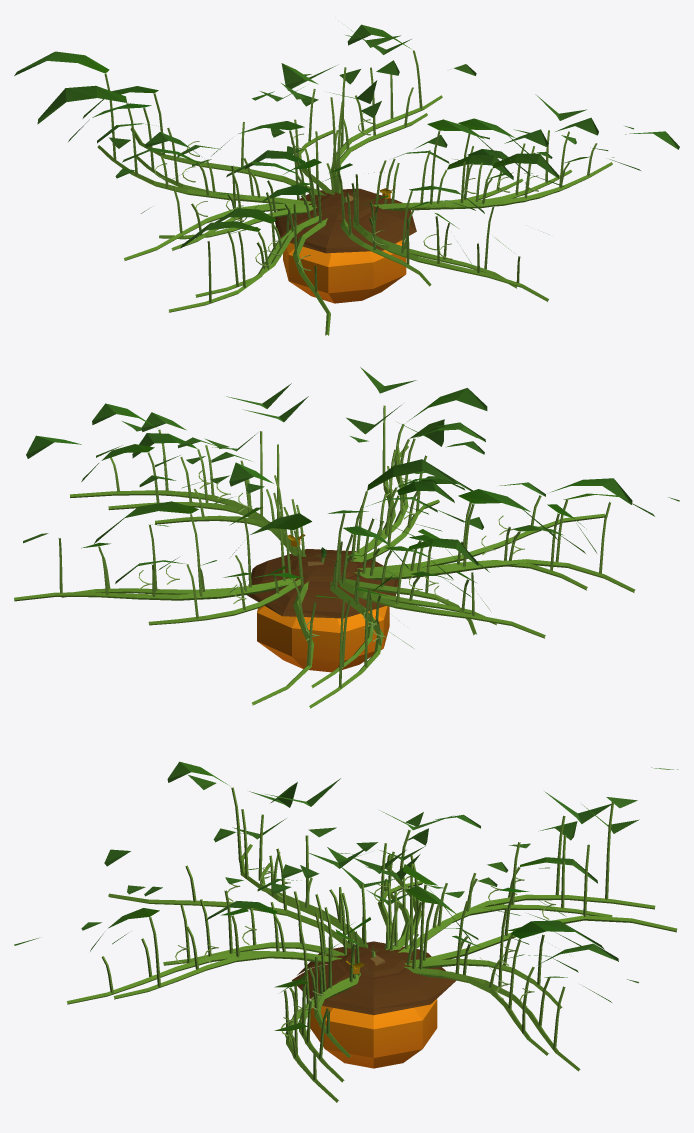
File: pumpkin.glb
3 views of the same model, one above another, from view 1: azimuth 30°, elevation 25°; view 2: azimuth 150°, elevation 25°; view 3: azimuth 270°, elevation 25° (orthographic). The views are drawn at different scales.
Visible parts, largest first — view 1: stage4_stem, stage3_stem, stage4_leaf, fruit_fruit, stage3_leaf, stage2_soil, stage2_stem, stage4_l1_stem, stage3_l1_stem, stage4_l1_leaf, stage2_l1_stem, stage0_soil (+3 smaller); view 2: stage4_stem, stage4_leaf, stage3_stem, fruit_fruit, stage2_stem, stage2_soil, stage4_l1_stem, stage3_leaf, stage3_l1_stem, stage2_leaf, stage4_l1_leaf, stage2_l1_stem (+2 smaller); view 3: stage4_stem, stage3_stem, fruit_fruit, stage2_soil, stage2_stem, stage4_l1_stem, stage3_leaf, stage4_leaf, stage3_l1_stem, stage0_soil, stage4_l1_leaf, stage2_l1_stem (+1 smaller).
Boxes of the visible parts, box(x1,y1,x2,y2) form: stage4_stem: box(97, 50, 612, 312); stage3_stem: box(136, 67, 572, 297); stage4_leaf: box(14, 24, 679, 252); fruit_fruit: box(283, 240, 406, 303); stage3_leaf: box(68, 35, 586, 266); stage2_soil: box(274, 188, 416, 253); stage2_stem: box(159, 89, 521, 286); stage4_l1_stem: box(130, 93, 612, 335); stage3_l1_stem: box(124, 133, 570, 260); stage4_l1_leaf: box(82, 83, 640, 181); stage2_l1_stem: box(171, 146, 523, 250); stage0_soil: box(315, 193, 375, 219); stage4_stem: box(14, 424, 635, 708); stage4_leaf: box(26, 388, 679, 633); stage3_stem: box(61, 405, 587, 688); fruit_fruit: box(257, 605, 389, 672); stage2_stem: box(148, 455, 476, 635); stage2_soil: box(247, 549, 398, 618); stage4_l1_stem: box(70, 458, 605, 705); stage3_leaf: box(23, 367, 596, 648); stage3_l1_stem: box(108, 431, 545, 638); stage2_leaf: box(115, 433, 490, 610); stage4_l1_leaf: box(122, 421, 632, 592); stage2_l1_stem: box(155, 460, 496, 625); stage4_stem: box(67, 787, 655, 1102); stage3_stem: box(113, 814, 612, 1082); fruit_fruit: box(310, 999, 437, 1068); stage2_soil: box(292, 941, 456, 1015); stage2_stem: box(163, 843, 562, 1055); stage4_l1_stem: box(108, 844, 677, 1102); stage3_leaf: box(90, 782, 611, 972); stage4_leaf: box(14, 761, 678, 1002); stage3_l1_stem: box(294, 829, 421, 1080); stage0_soil: box(332, 947, 407, 977); stage4_l1_leaf: box(104, 804, 639, 1030); stage2_l1_stem: box(310, 877, 409, 1057).
Bounding box in the file's own units: 1.96 × 0.6901 × 1.89.
